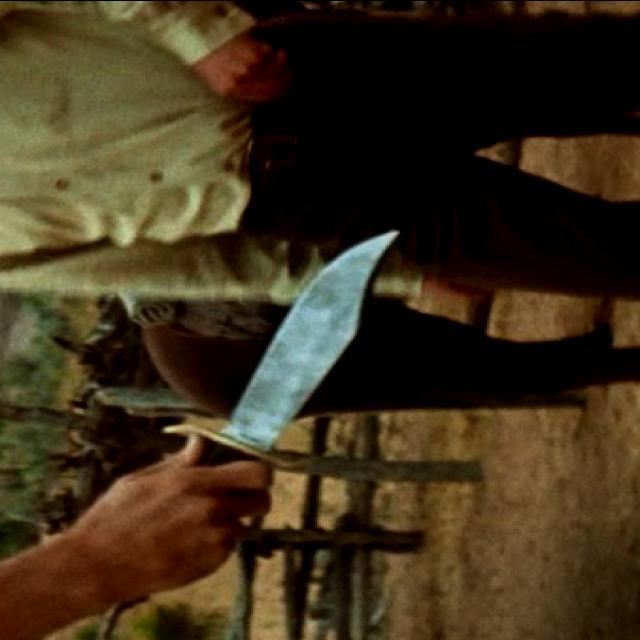knife: (128, 218, 418, 532)
